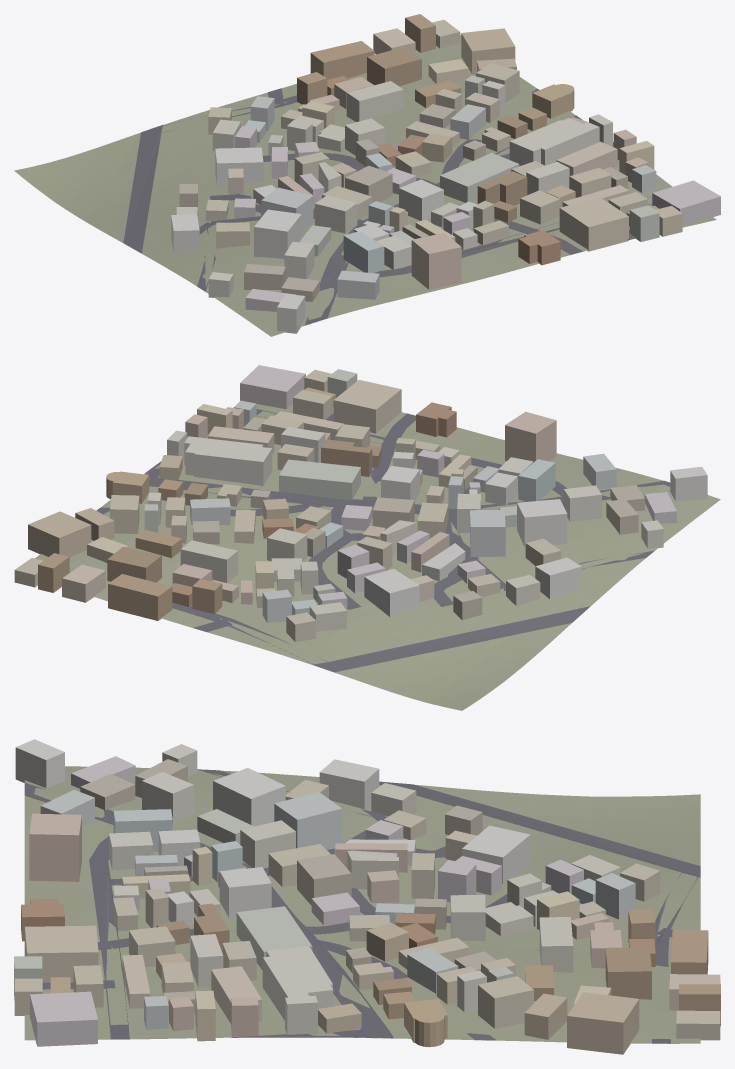
File: chunk_4_5.glb
3 renders of one model, top to bottom at view 1: azimuth 30°, elevation 25°; view 2: azimuth 150°, elevation 25°; view 3: azimuth 270°, elevation 25°, orthographic. The views are drawn at different scales.
Visible parts, largest first — view 1: geometry_120, geometry_3, geometry_19, geometry_129, geometry_26, geometry_25, geometry_2, geometry_75, geometry_65, geometry_68, geometry_66, geometry_67 (+58 smaller); view 2: geometry_120, geometry_3, geometry_129, geometry_25, geometry_19, geometry_68, geometry_67, geometry_26, geometry_2, geometry_75, geometry_54, geometry_121 (+64 smaller); view 3: geometry_120, geometry_67, geometry_26, geometry_2, geometry_129, geometry_3, geometry_19, geometry_75, geometry_74, geometry_121, geometry_25, geometry_54 (+90 smaller).
Boxes of the visible parts, x1,y1,x2,y2 form: geometry_120: (14,35,716,336); geometry_3: (509,118,599,166); geometry_19: (559,197,628,251); geometry_129: (123,125,162,253); geometry_26: (411,233,461,289); geometry_25: (440,153,519,202); geometry_2: (652,180,720,225); geometry_75: (254,209,301,258); geometry_65: (346,81,403,121); geometry_68: (310,41,374,79); geometry_66: (367,47,421,86); geometry_67: (461,28,515,74); geometry_120: (35,404,720,710); geometry_3: (184,436,272,485); geometry_129: (312,606,589,672); geometry_25: (279,459,360,500); geometry_19: (333,380,401,433); geometry_68: (108,574,172,620); geometry_67: (28,511,91,557); geometry_26: (505,411,556,462); geometry_2: (240,365,305,409); geometry_75: (517,499,567,547); geometry_54: (364,569,419,617); geometry_121: (149,476,670,516); geometry_120: (24,766,700,1043); geometry_67: (567,992,639,1054); geometry_26: (29,813,81,881); geometry_2: (30,991,97,1046); geometry_129: (379,781,700,877); geometry_3: (262,946,333,1020); geometry_19: (24,925,98,982); geometry_75: (213,768,285,826); geometry_74: (274,792,342,849); geometry_121: (24,783,393,1038); geometry_25: (236,906,312,970); geometry_54: (462,825,530,883).
Size of the model in its own units: 260 by 35.11 by 261.
